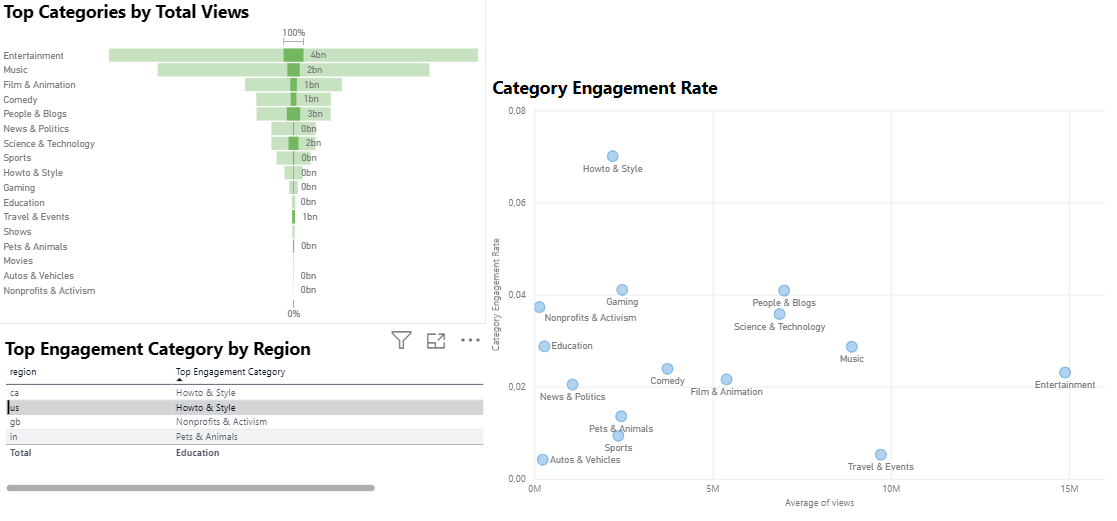

The dashboard page shown, as its layout file describes it:
{"tool":"powerbi","page":{"name":"Category Analysis","canvas":[1280,720],"ordinal":2},"visuals":[{"type":"funnel","title":"Top Categories by Total Views","fields":{"Category":["category_analytics.category_name"],"Y":["Sum(category_analytics.total_views)"]},"box":[0,0,557.8,371.1],"z":0},{"type":"scatterChart","title":"Category Engagement Rate","fields":{"Category":["category_analytics.category_name"],"X":["Avg(category_analytics.total_views)"],"Y":["category_analytics.Category Engagement Rate"]},"box":[558.6,87.1,721.4,500],"z":1000},{"type":"tableEx","title":"Top Engagement Category by Region","fields":{"Values":["category_analytics.region","category_analytics.Top Engagement Category"]},"box":[1.4,385.7,557.1,182.9],"z":1001}]}

Visuals, with their boxes on the page's 1280x720 design canvas (x1, y1, x2, y2). These are canvas units, not pixel positions in the 1117x521 screenshot, which may show the page scaled, cropped or inside an application window:
"Top Categories by Total Views" funnel: [x1=0, y1=0, x2=558, y2=371]
"Category Engagement Rate" scatterChart: [x1=559, y1=87, x2=1280, y2=587]
"Top Engagement Category by Region" tableEx: [x1=1, y1=386, x2=558, y2=569]
